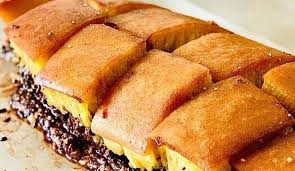Martabak manis: (157, 71, 291, 167), (95, 47, 214, 152), (40, 25, 102, 161), (3, 0, 104, 55), (177, 31, 290, 75), (109, 3, 223, 44)
